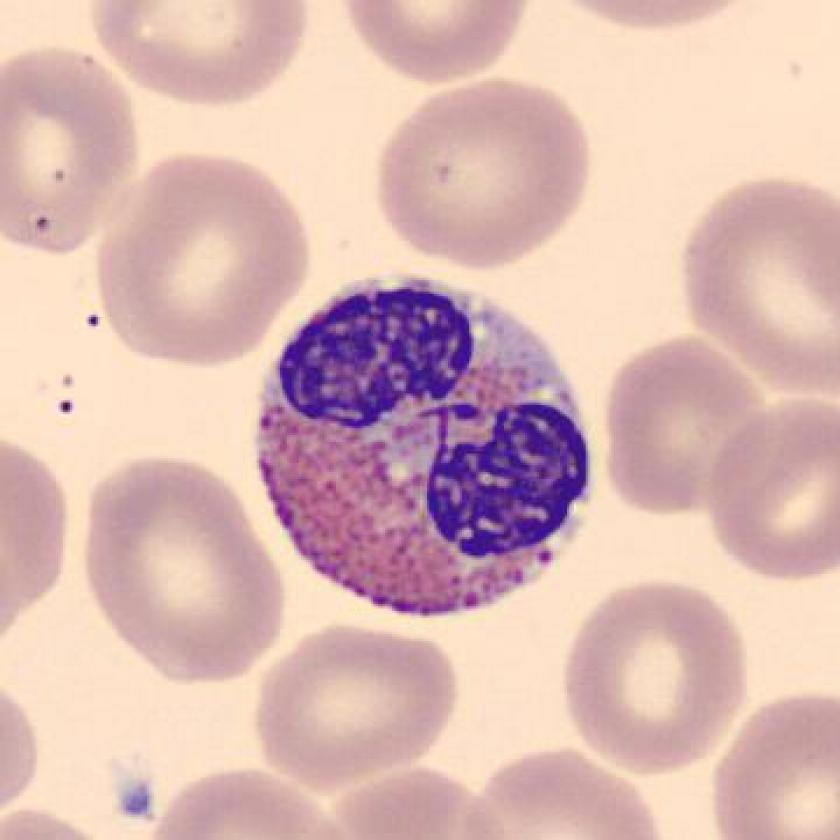eosinophil: (237, 265, 603, 630)
